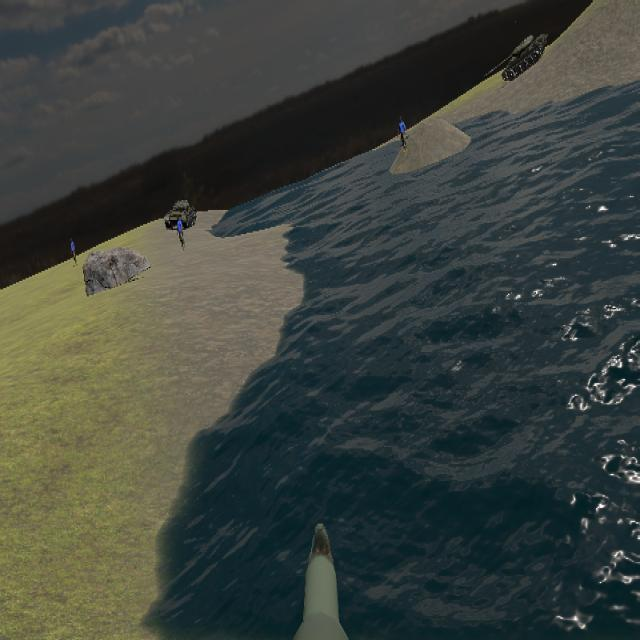Human: (398, 115, 409, 151)
Tank: (483, 31, 549, 83), (165, 198, 198, 230)
